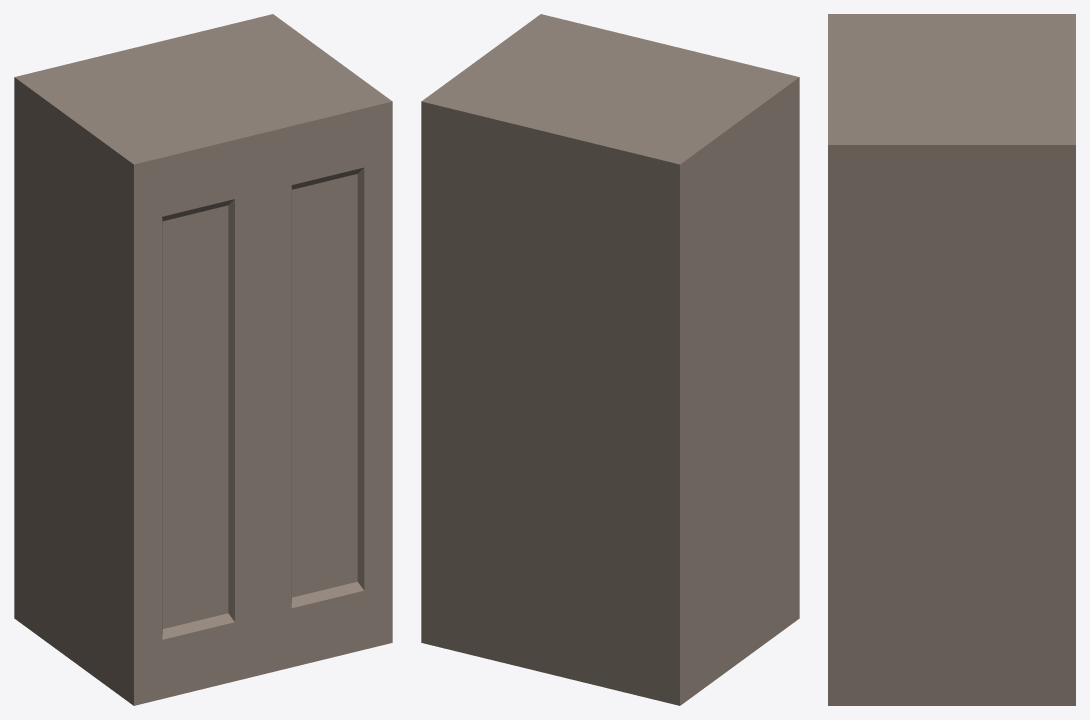
The model's file is WHP-Wall-Cabinet-Double-Door-Shelves_std_001_W15in.glb.
The picture shows the model from 3 angles, left to right: view 1: azimuth 30°, elevation 25°; view 2: azimuth 150°, elevation 25°; view 3: azimuth 270°, elevation 25°; orthographic projection. The views are drawn at different scales.
Parts seen in each view (by area): view 1: WHP-Wall-Cabinet-Double-Door-Shelves.std.001_W15in; view 2: WHP-Wall-Cabinet-Double-Door-Shelves.std.001_W15in; view 3: WHP-Wall-Cabinet-Double-Door-Shelves.std.001_W15in.
Boxes of the visible parts, x1,y1,x2,y2 form: WHP-Wall-Cabinet-Double-Door-Shelves.std.001_W15in: (14,14,392,705); WHP-Wall-Cabinet-Double-Door-Shelves.std.001_W15in: (421,14,799,705); WHP-Wall-Cabinet-Double-Door-Shelves.std.001_W15in: (828,14,1075,705).
Size of the model in its own units: 0.381 by 0.762 by 0.3048.
